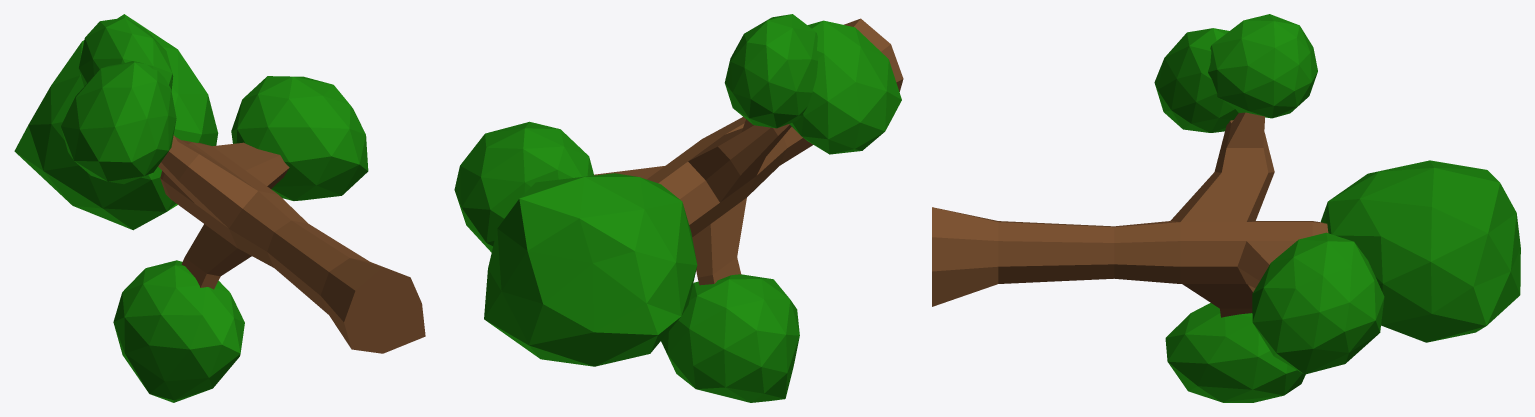
Rendered from arvore001.fbx.
The picture shows the model from 3 angles, left to right: view 1: azimuth 30°, elevation 25°; view 2: azimuth 150°, elevation 25°; view 3: azimuth 270°, elevation 25°; orthographic projection. The views are drawn at different scales.
Parts seen in each view (by area): view 1: Tronco; view 2: Tronco; view 3: Tronco.
Part boxes in pixels (x1,y1,x2,y2): Tronco: (14,14,425,402); Tronco: (454,14,903,402); Tronco: (932,14,1520,402).
Bounding box in the file's own units: 468 × 499 × 719.
